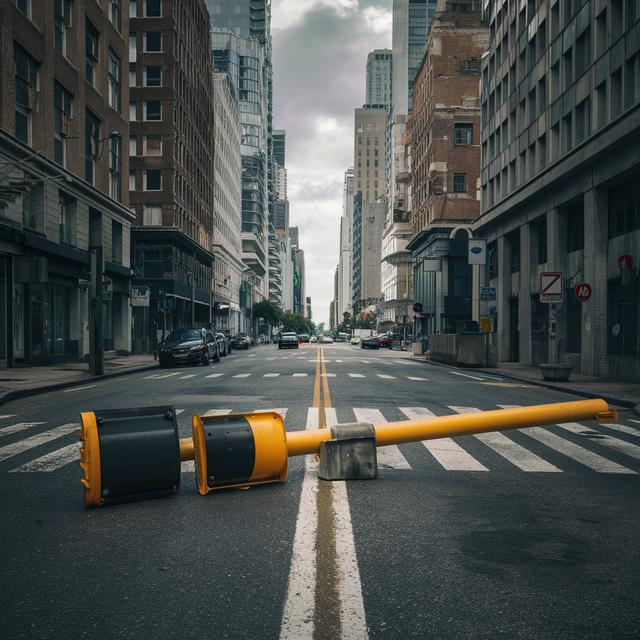Inclined Pole: (72, 387, 622, 514)
